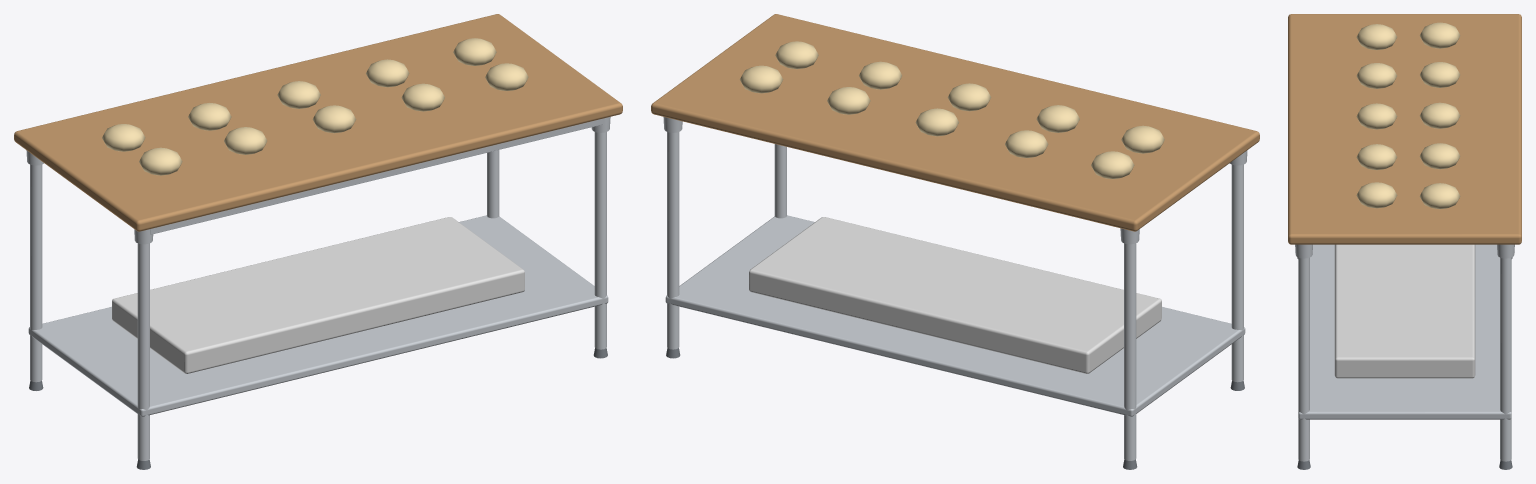
The model's file is dough-table.glb.
The picture shows the model from 3 angles, left to right: view 1: azimuth 30°, elevation 25°; view 2: azimuth 150°, elevation 25°; view 3: azimuth 270°, elevation 25°; orthographic projection. The views are drawn at different scales.
Visible parts, largest first — view 1: BODY, PROPS, FOOD; view 2: BODY, PROPS, FOOD; view 3: BODY, PROPS, FOOD.
Part boxes in pixels (<box>): BODY: <box>14,14,622,469</box>; PROPS: <box>112,217,524,373</box>; FOOD: <box>102,38,528,175</box>; BODY: <box>651,14,1259,469</box>; PROPS: <box>749,217,1161,373</box>; FOOD: <box>739,41,1164,179</box>; BODY: <box>1288,14,1521,469</box>; PROPS: <box>1334,244,1475,378</box>; FOOD: <box>1356,22,1460,209</box>.
Size of the model in its own units: 1.8 by 0.9685 by 0.7999.
